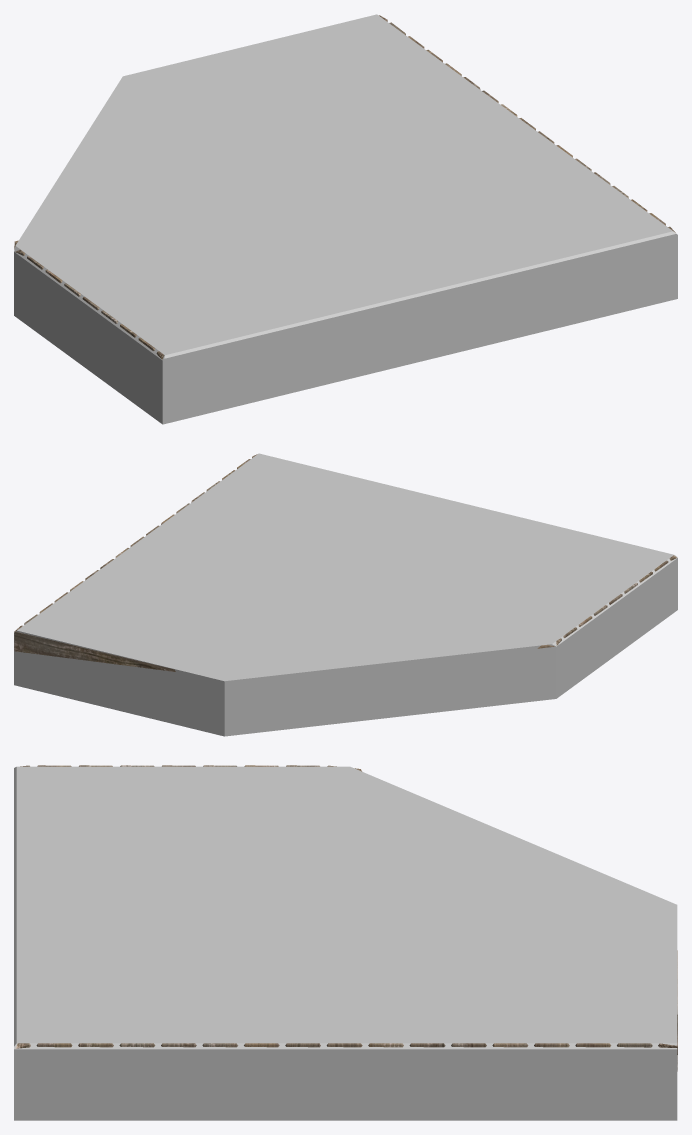
File: SM_CastleTower_Floor_A_03.fbx
3 views of the same model, one above another, from view 1: azimuth 30°, elevation 25°; view 2: azimuth 150°, elevation 25°; view 3: azimuth 270°, elevation 25° (orthographic). The views are drawn at different scales.
Parts seen in each view (by area): view 1: SM_CastleTower_Floor_A_03_ConvexHulls, SM_CastleTower_Floor_A_03; view 2: SM_CastleTower_Floor_A_03_ConvexHulls, SM_CastleTower_Floor_A_03; view 3: SM_CastleTower_Floor_A_03_ConvexHulls, SM_CastleTower_Floor_A_03.
Part boxes in pixels (x1,y1,x2,y2): SM_CastleTower_Floor_A_03_ConvexHulls: [14, 14, 677, 424]; SM_CastleTower_Floor_A_03: [14, 15, 675, 359]; SM_CastleTower_Floor_A_03_ConvexHulls: [14, 453, 677, 736]; SM_CastleTower_Floor_A_03: [14, 454, 676, 671]; SM_CastleTower_Floor_A_03_ConvexHulls: [14, 766, 677, 1120]; SM_CastleTower_Floor_A_03: [15, 765, 677, 1071].
Size of the model in its own units: 400 by 401 by 50.24.
